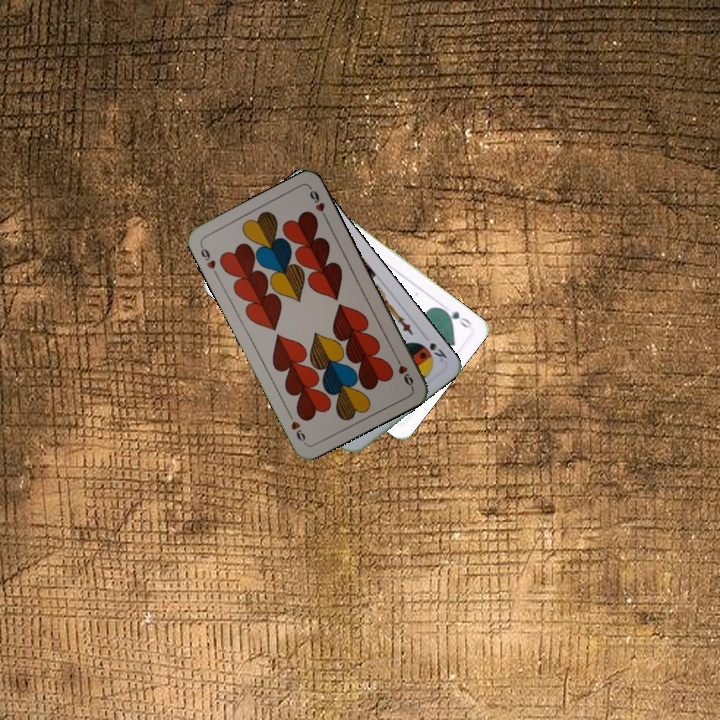GO: (437, 304, 474, 331)
H9: (391, 352, 416, 390), (196, 241, 218, 272)
SK: (425, 338, 450, 365)
